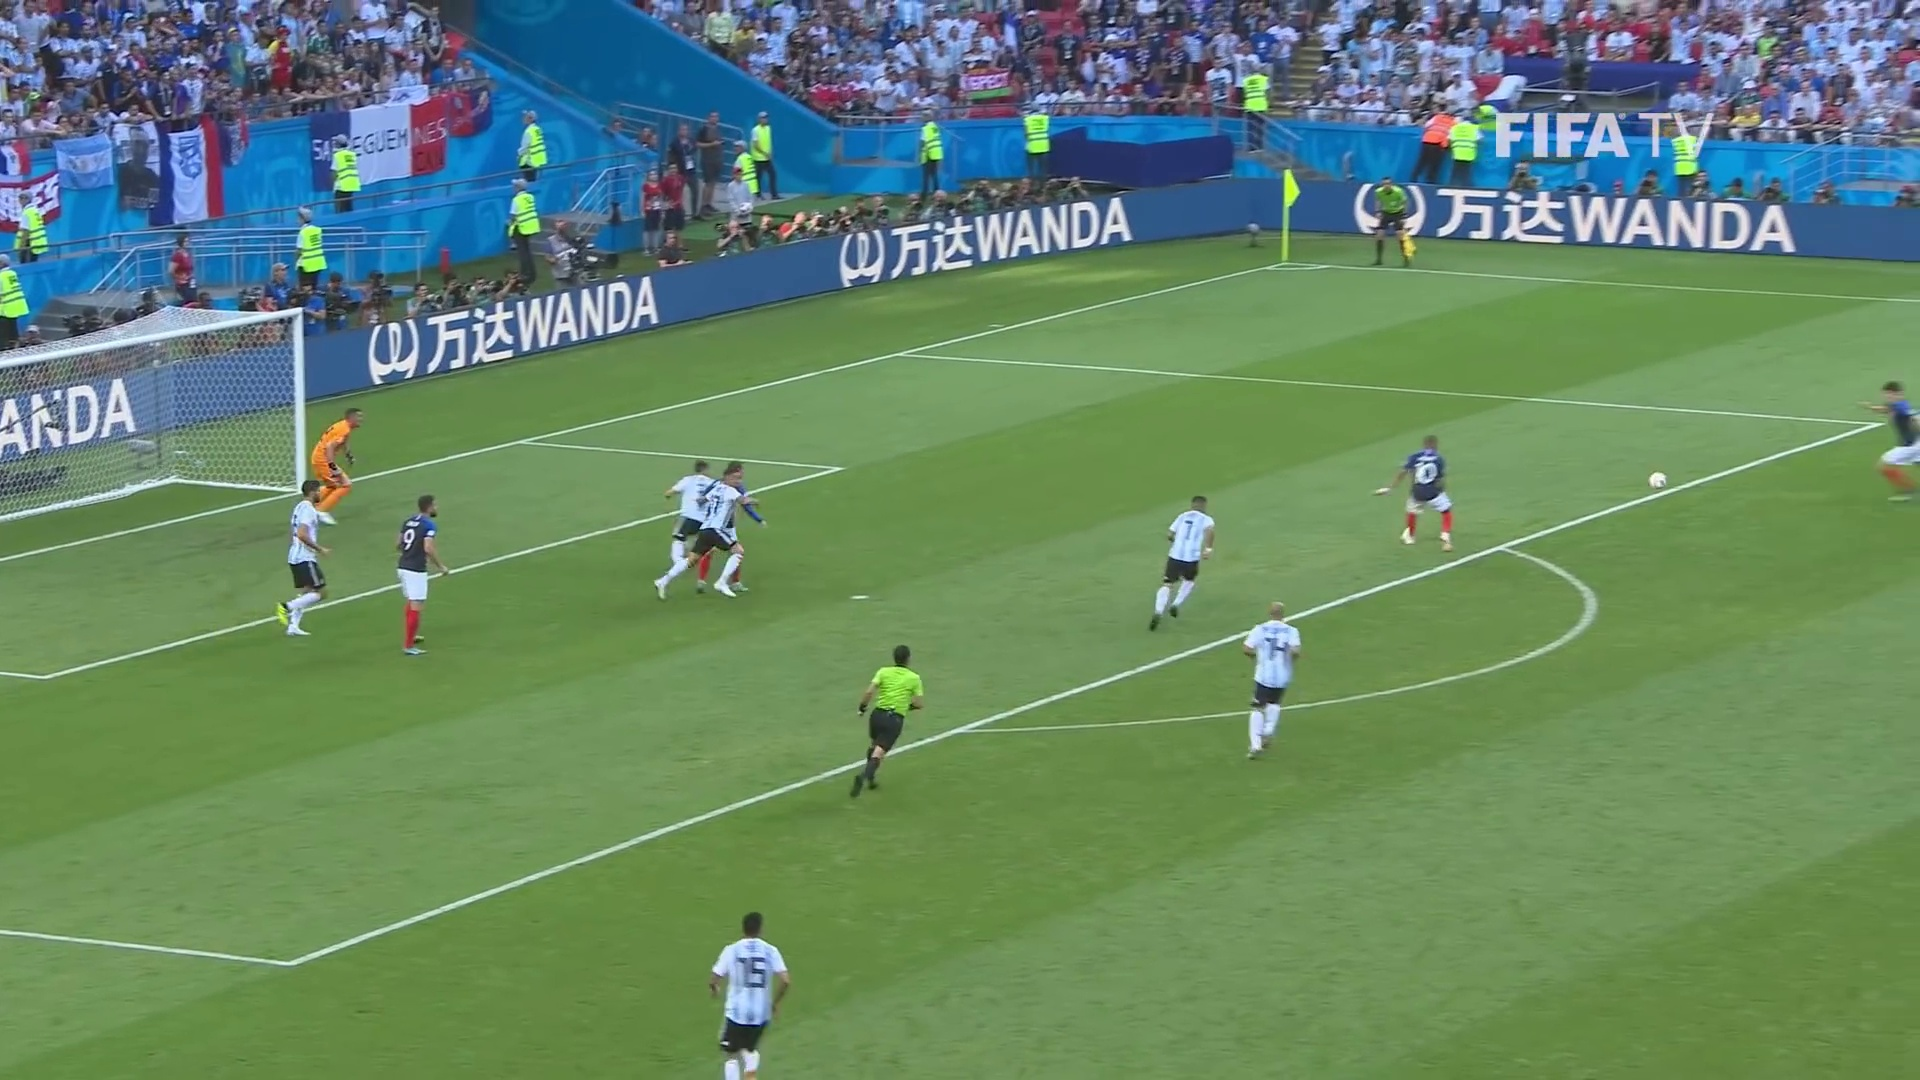ball: (1648, 473, 1666, 489)
person: (710, 908, 792, 1080), (691, 451, 752, 604), (1246, 602, 1299, 765), (1152, 496, 1214, 625), (1393, 435, 1463, 549), (281, 480, 324, 641), (1869, 376, 1920, 503), (661, 449, 718, 561), (307, 410, 359, 527), (399, 496, 436, 653)
